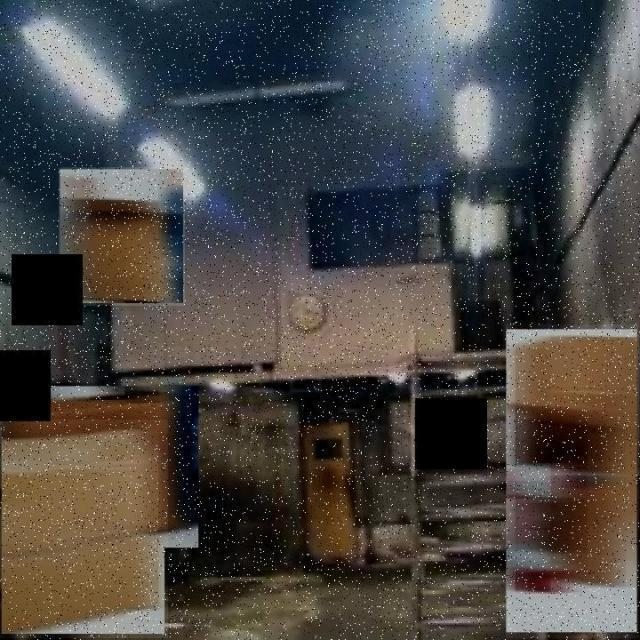box: (506, 324, 640, 638), (0, 421, 168, 638), (1, 386, 202, 550), (59, 168, 185, 306)
